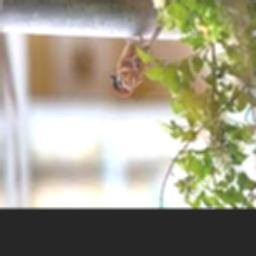Sparrow: (111, 26, 163, 97)
